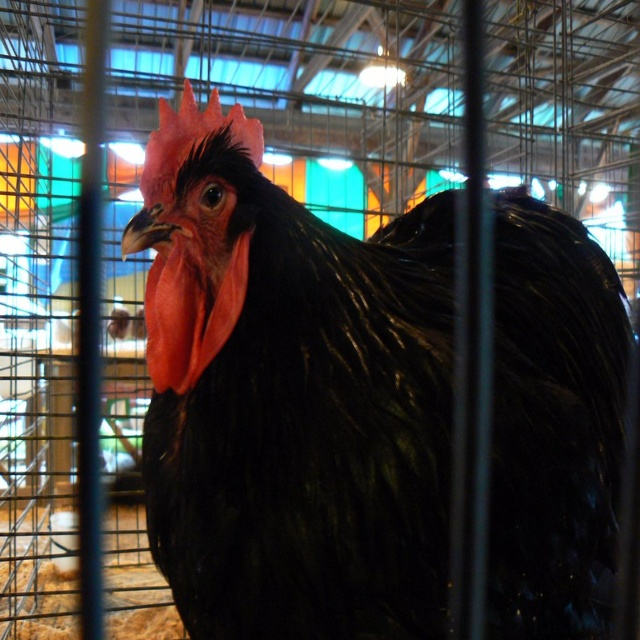Chicken: (131, 90, 597, 631)
